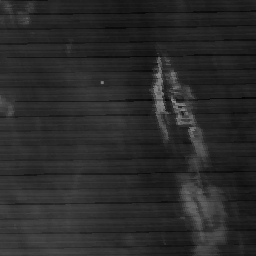Target: (99, 79, 105, 86)
